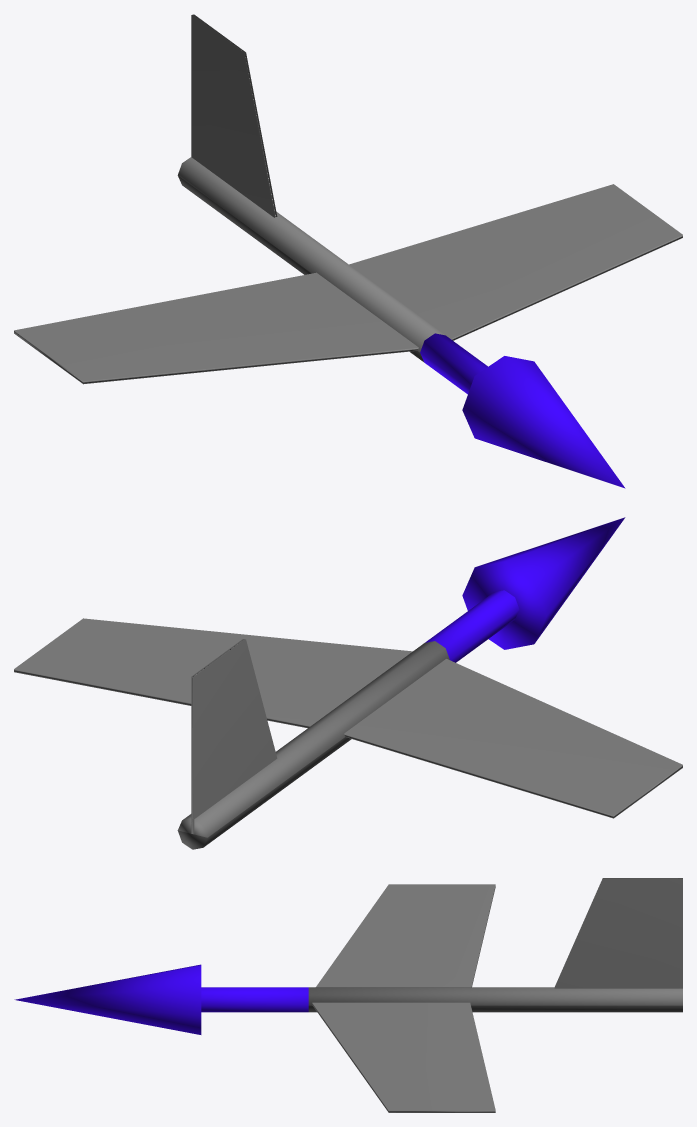
The model's file is mini.fbx.
The picture shows the model from 3 angles, top to bottom: view 1: azimuth 30°, elevation 25°; view 2: azimuth 150°, elevation 25°; view 3: azimuth 270°, elevation 25°; orthographic projection. The views are drawn at different scales.
Parts seen in each view (by area): view 1: Plane, Arrow; view 2: Plane, Arrow; view 3: Plane, Arrow.
Part boxes in pixels (x1,y1,x2,y2): Plane: (14, 14, 682, 384); Arrow: (420, 333, 625, 488); Plane: (14, 618, 682, 849); Arrow: (425, 517, 625, 662); Plane: (308, 878, 682, 1112); Arrow: (14, 964, 308, 1034).
Bounding box in the file's own units: 2 × 0.6406 × 2.5.
